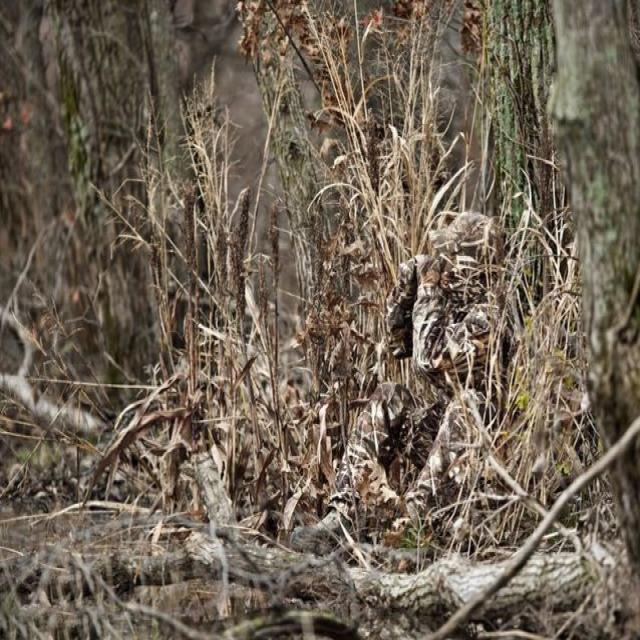Human: (290, 209, 509, 554)
